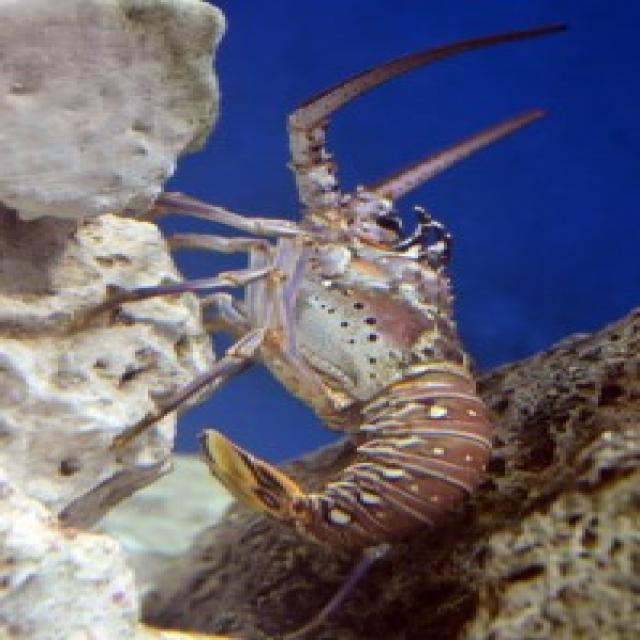lobsters: (106, 51, 640, 640)
